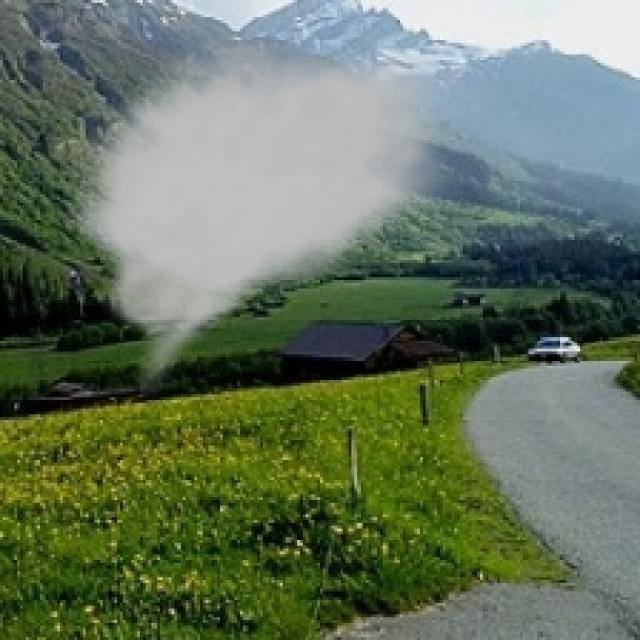Smoke: (54, 34, 469, 403)
